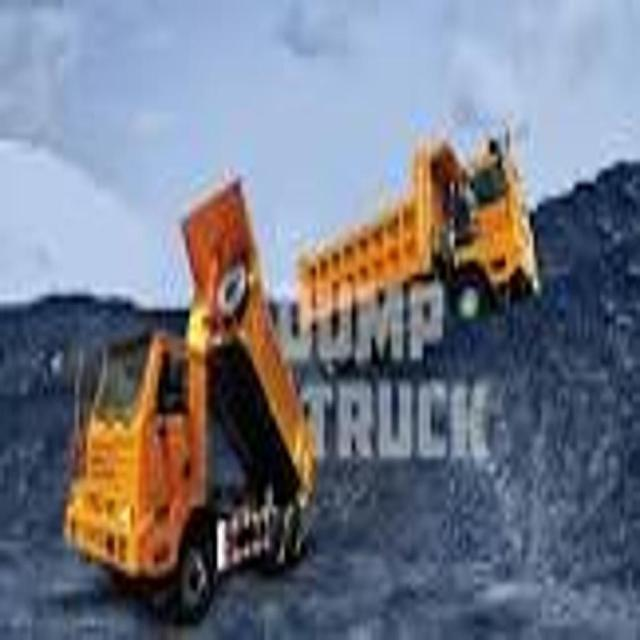dump_truck: (65, 168, 322, 612)
